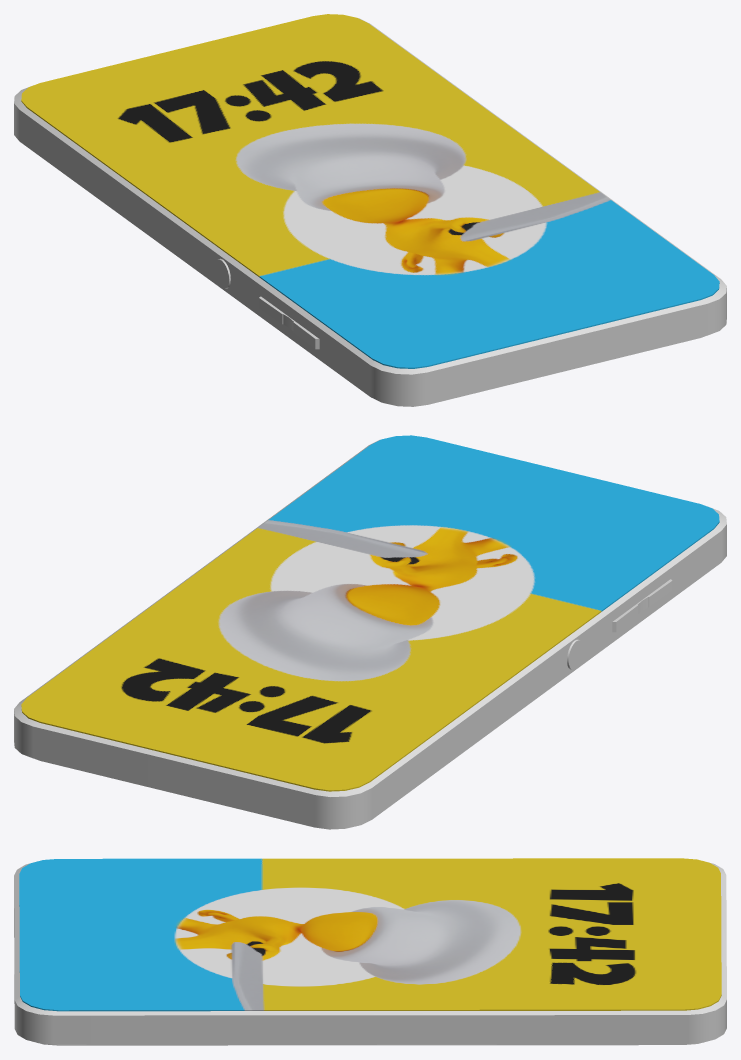
The model's file is Iphone.fbx.
The picture shows the model from 3 angles, top to bottom: view 1: azimuth 30°, elevation 25°; view 2: azimuth 150°, elevation 25°; view 3: azimuth 270°, elevation 25°; orthographic projection. The views are drawn at different scales.
Visible parts, largest first — view 1: Phone; view 2: Phone; view 3: Phone.
Boxes of the visible parts, x1,y1,x2,y2 form: Phone: [14, 14, 726, 406]; Phone: [14, 435, 726, 829]; Phone: [14, 858, 726, 1045].
Size of the model in its own units: 5.63 by 0.5944 by 10.81.
